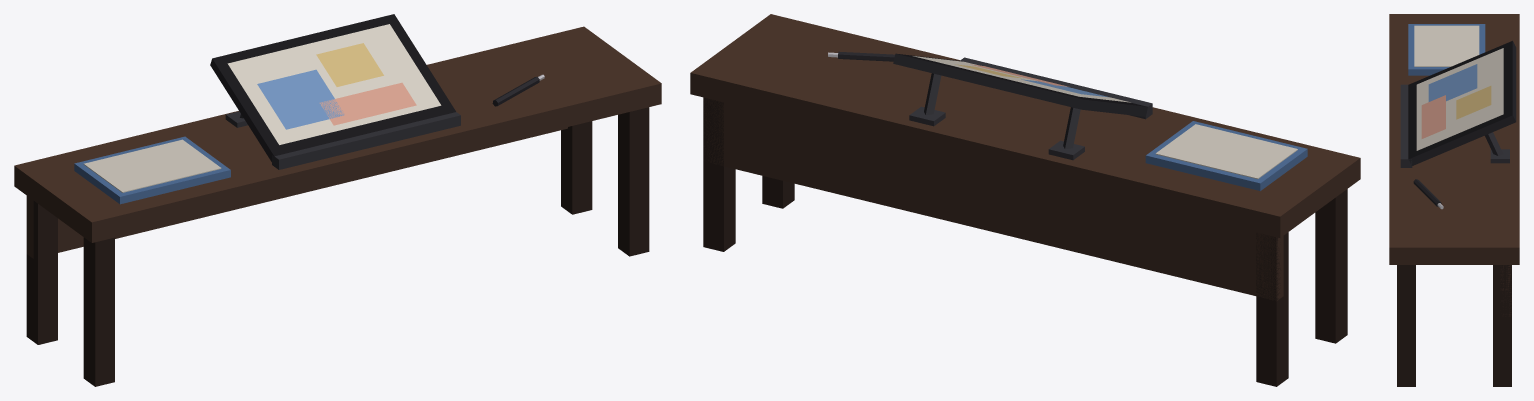
Rendered from illust_desk_tablet.fbx.
3 renders of one model, left to right at view 1: azimuth 30°, elevation 25°; view 2: azimuth 150°, elevation 25°; view 3: azimuth 270°, elevation 25°, orthographic. The views are drawn at different scales.
Visible parts, largest first — view 1: illust_desk_tablet; view 2: illust_desk_tablet; view 3: illust_desk_tablet.
Boxes of the visible parts, x1,y1,x2,y2 form: illust_desk_tablet: (14, 14, 661, 386); illust_desk_tablet: (690, 14, 1360, 386); illust_desk_tablet: (1389, 14, 1519, 386).
Bounding box in the file's own units: 1.44 × 0.5618 × 0.34.
